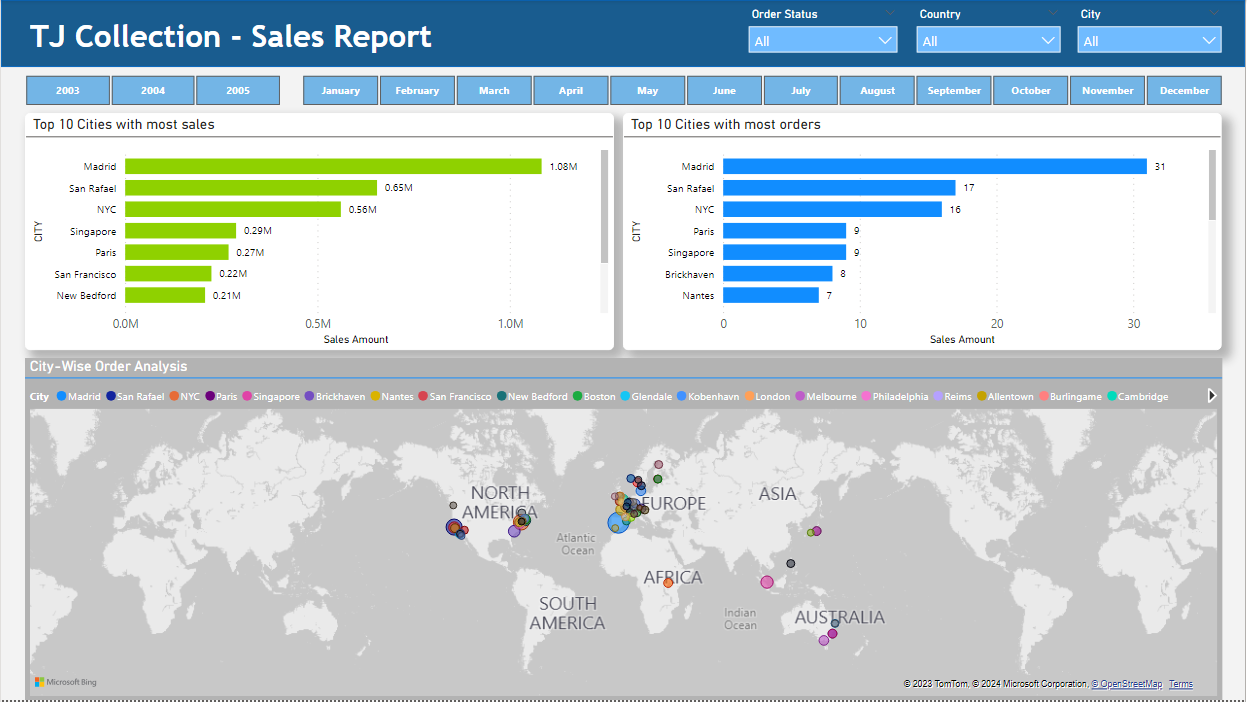

The dashboard page shown, as its layout file describes it:
{"tool":"powerbi","page":{"name":"City-Wise Analysis","canvas":[1280,720],"ordinal":4},"visuals":[{"type":"shape","box":[0,0,1280,68.9],"z":0},{"type":"slicer","fields":{"Values":["sales_data.ORDERDATE.Variation.Date Hierarchy.Year"]},"box":[0,71,310.7,44.2],"z":1000},{"type":"slicer","fields":{"Values":["sales_data.ORDERDATE.Variation.Date Hierarchy.Month"]},"box":[285,71,995,44.2],"z":2000},{"type":"slicer","fields":{"Values":["sales_data.CITY"]},"box":[1097.9,2.1,167.7,55.6],"z":3000},{"type":"slicer","fields":{"Values":["sales_data.COUNTRY"]},"box":[932.2,2.1,167.7,55.6],"z":4000},{"type":"slicer","fields":{"Values":["sales_data.STATUS"]},"box":[759.4,2.1,172.9,55.6],"z":5000},{"type":"textbox","box":[24.7,13.4,443.5,55.6],"z":6000},{"type":"barChart","title":"Top 10 Cities with most sales","fields":{"Category":["sales_data.CITY"],"Y":["Sum(sales_data.SALES)"]},"box":[24.7,116.3,606,243.9],"z":7000},{"type":"barChart","title":"Top 10 Cities with most orders","fields":{"Category":["sales_data.CITY"],"Y":["Count(sales_data.ORDERNUMBER)"]},"box":[640,116.3,616.3,243.9],"z":8000},{"type":"map","title":"City-Wise Order Analysis","fields":{"Category":["sales_data.CITY"],"Size":["Count(sales_data.ORDERNUMBER)"],"Series":["sales_data.CITY"]},"box":[24.7,368.4,1231.6,351.9],"z":9000}]}

Visuals, with their boxes in screenshot pixels (x1, y1, x2, y2), scaled from the page's 1280x720 canvas onto the 1247x702 screenshot:
shape: x1=0 y1=0 x2=1246 y2=67
slicer - sales_data.ORDERDATE.Variation.Date Hierarchy.Year: x1=0 y1=69 x2=303 y2=112
slicer - sales_data.ORDERDATE.Variation.Date Hierarchy.Month: x1=278 y1=69 x2=1246 y2=112
slicer - sales_data.CITY: x1=1070 y1=2 x2=1233 y2=56
slicer - sales_data.COUNTRY: x1=908 y1=2 x2=1072 y2=56
slicer - sales_data.STATUS: x1=740 y1=2 x2=908 y2=56
textbox: x1=24 y1=13 x2=456 y2=67
"Top 10 Cities with most sales" barChart: x1=24 y1=113 x2=614 y2=351
"Top 10 Cities with most orders" barChart: x1=624 y1=113 x2=1224 y2=351
"City-Wise Order Analysis" map: x1=24 y1=359 x2=1224 y2=701
